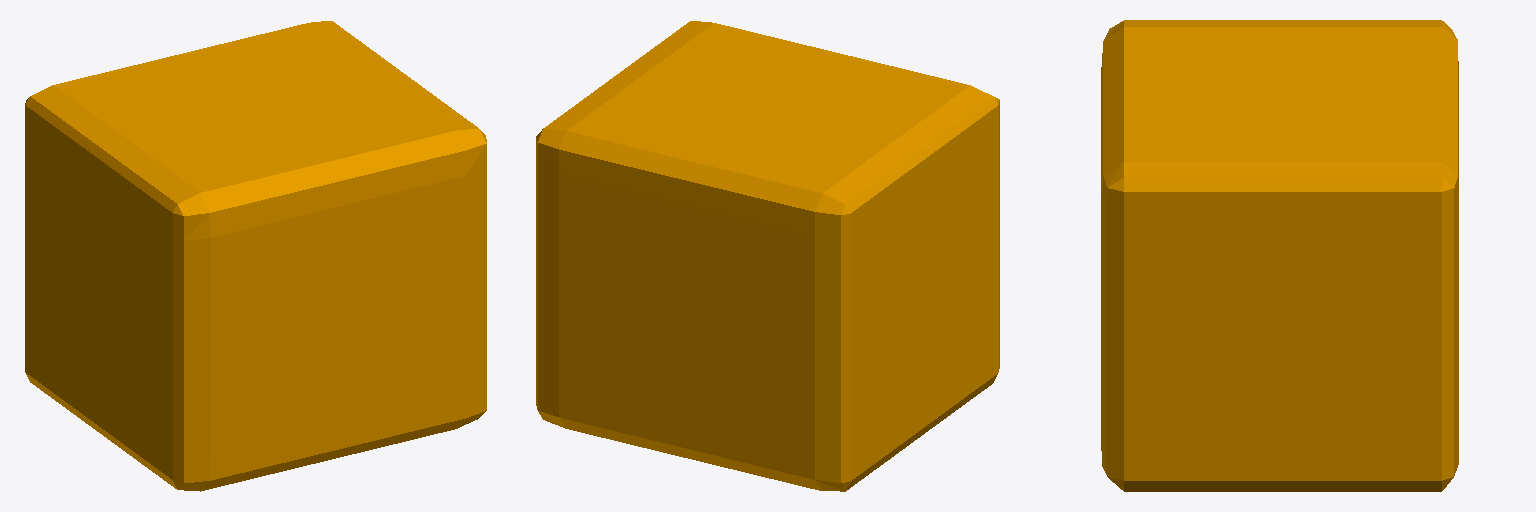
URDF robot description (cylinder_box_65):
<?xml version="1.0" encoding="utf-8"?>  <robot name="cylinder_box_65">   <link name="cylinder_box_65">     <visual>       <geometry>         <mesh filename="../meshes/box/box_65.stl" scale="1 1 1"/>       </geometry>     </visual>     <collision>       <geometry>         <mesh filename="../meshes/box/box_65.stl" scale="1 1 1"/>       </geometry>     </collision>     <inertial>        <origin         xyz="0 0 0"         rpy="0 0 0" />       <mass value="0.2520035405311205"/>       <origin rpy="0 0 0" xyz="0 0 0"/>       <inertia ixx="0.00015594740340507847" ixy="-8.775051430039852e-09" ixz="-1.5202739771243295e-08" iyy="0.00017217609657860027" iyz="-8.522102451395351e-08" izz="0.00017250092665365666"/>     </inertial>   </link>  </robot>

--- Facts derived from the render (not from the file) ---
The picture shows the robot from 3 angles, left to right: view 1: azimuth 30°, elevation 25°; view 2: azimuth 150°, elevation 25°; view 3: azimuth 270°, elevation 25°; orthographic projection.
Model cylinder_box_65 with 1 links and 0 joints (none), rooted at cylinder_box_65, posed every joint at zero.
Links seen in each view (by area): view 1: cylinder_box_65; view 2: cylinder_box_65; view 3: cylinder_box_65.
Link boxes in pixels (x1,y1,x2,y2): cylinder_box_65: (25, 21, 486, 491); cylinder_box_65: (536, 21, 999, 491); cylinder_box_65: (1101, 20, 1458, 491).
Bounding box of the posed robot: 0.0676 × 0.0616 × 0.0615 m (x, y, z).
Meshes: 1 distinct files referenced, 1 mesh visuals loaded (1 binary STL).